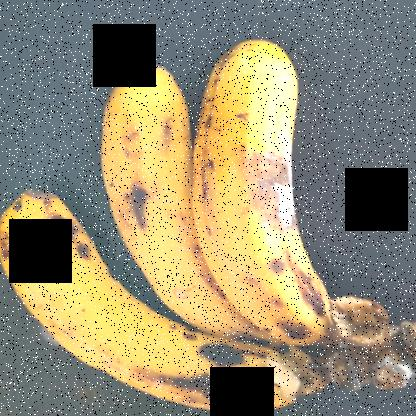overripe: (1, 180, 308, 416), (196, 8, 340, 341), (87, 43, 226, 327)
